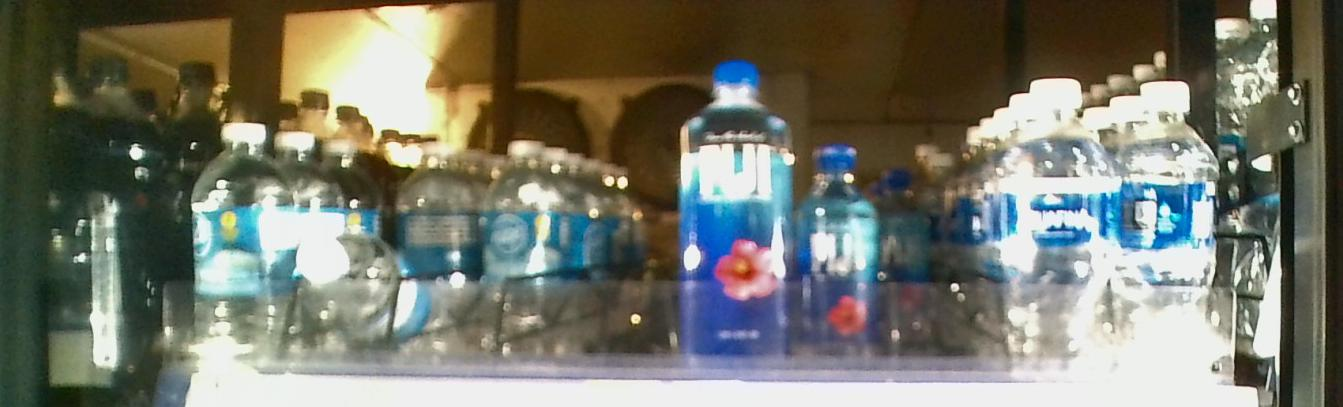bottle: (677, 51, 795, 362), (1121, 76, 1223, 379), (188, 105, 298, 361), (1017, 76, 1112, 372), (798, 113, 879, 372), (303, 223, 425, 362), (480, 142, 555, 353), (884, 166, 943, 354)
